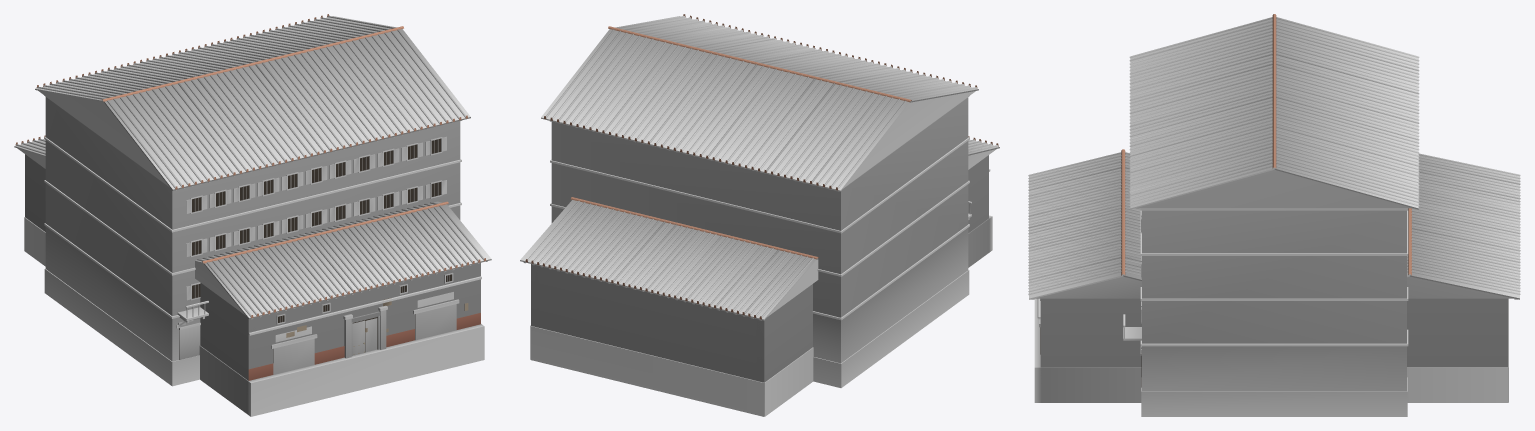
Rendered from edificios.glb.
3 renders of one model, left to right at view 1: azimuth 30°, elevation 25°; view 2: azimuth 150°, elevation 25°; view 3: azimuth 270°, elevation 25°, orthographic. The views are drawn at different scales.
Visible parts, largest first — view 1: H2_insa_roof, H2_insa_plaster, H2_dom_roof, H2_dom_plaster, H2_dom_socle, H2_insa_brick, H2_insa_wood, H2_insa_misc, H2_insa_socle, H2_dom_misc, H2_dom_interior, H2_insa_stone (+7 smaller); view 2: H2_insa_roof, H2_insa_plaster, H2_dom_plaster, H2_dom_roof, H2_dom_socle, H2_insa_brick, H2_insa_socle, H2_insa_stone, H2_insa_wall, H2_insa_misc, H2_dom_misc, H2_dom_wall; view 3: H2_insa_roof, H2_insa_plaster, H2_dom_roof, H2_dom_plaster, H2_insa_brick, H2_dom_socle, H2_insa_socle, H2_insa_wall, H2_insa_stone, H2_dom_wall, H2_dom_misc, H2_insa_misc.
Part boxes in pixels (<box>): H2_insa_roof: <box>35,15,470,190</box>; H2_insa_plaster: <box>45,97,460,316</box>; H2_dom_roof: <box>14,138,491,319</box>; H2_dom_plaster: <box>25,154,480,380</box>; H2_dom_socle: <box>24,217,484,416</box>; H2_insa_brick: <box>45,227,200,361</box>; H2_insa_wood: <box>175,120,461,329</box>; H2_insa_misc: <box>36,14,467,359</box>; H2_insa_socle: <box>44,268,199,386</box>; H2_dom_misc: <box>15,135,486,380</box>; H2_dom_interior: <box>273,304,456,374</box>; H2_insa_stone: <box>44,95,461,318</box>; H2_insa_roof: <box>541,16,978,191</box>; H2_insa_plaster: <box>551,97,968,317</box>; H2_dom_plaster: <box>531,155,988,382</box>; H2_dom_roof: <box>520,139,999,320</box>; H2_dom_socle: <box>530,215,992,416</box>; H2_insa_brick: <box>813,228,968,363</box>; H2_insa_socle: <box>813,270,969,387</box>; H2_insa_stone: <box>550,96,969,320</box>; H2_insa_wall: <box>844,91,975,187</box>; H2_insa_misc: <box>544,14,977,190</box>; H2_dom_misc: <box>525,136,998,319</box>; H2_dom_wall: <box>767,149,996,316</box>; H2_insa_roof: <box>1129,17,1419,209</box>; H2_insa_plaster: <box>1142,210,1406,343</box>; H2_dom_roof: <box>1028,152,1520,299</box>; H2_dom_plaster: <box>1037,298,1508,367</box>; H2_insa_brick: <box>1141,346,1406,391</box>; H2_dom_socle: <box>1034,298,1508,402</box>; H2_insa_socle: <box>1141,377,1407,416</box>; H2_insa_wall: <box>1136,170,1412,208</box>; H2_insa_stone: <box>1140,208,1408,346</box>; H2_dom_wall: <box>1035,276,1513,298</box>; H2_dom_misc: <box>1040,149,1411,354</box>; H2_insa_misc: <box>1141,14,1276,387</box>.
Size of the model in its own units: 23.58 by 17.88 by 31.6.
